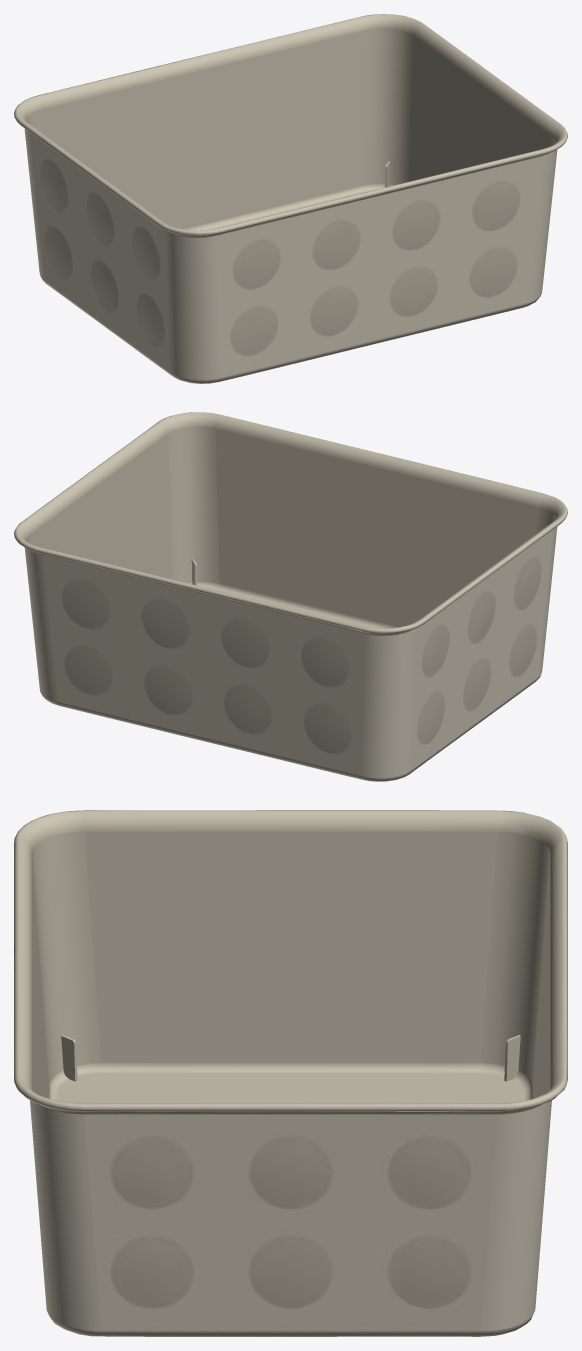
The model's file is nojig_organizer_20468105.glb.
The picture shows the model from 3 angles, top to bottom: view 1: azimuth 30°, elevation 25°; view 2: azimuth 150°, elevation 25°; view 3: azimuth 270°, elevation 25°; orthographic projection. The views are drawn at different scales.
Visible parts, largest first — view 1: nojig_organizer_20468105; view 2: nojig_organizer_20468105; view 3: nojig_organizer_20468105.
Boxes of the visible parts, x1,y1,x2,y2 form: nojig_organizer_20468105: (14,14,567,383); nojig_organizer_20468105: (14,412,567,781); nojig_organizer_20468105: (14,810,567,1336).
Bounding box in the file's own units: 0.2535 × 0.1 × 0.2.
1 material, 1 textured.
